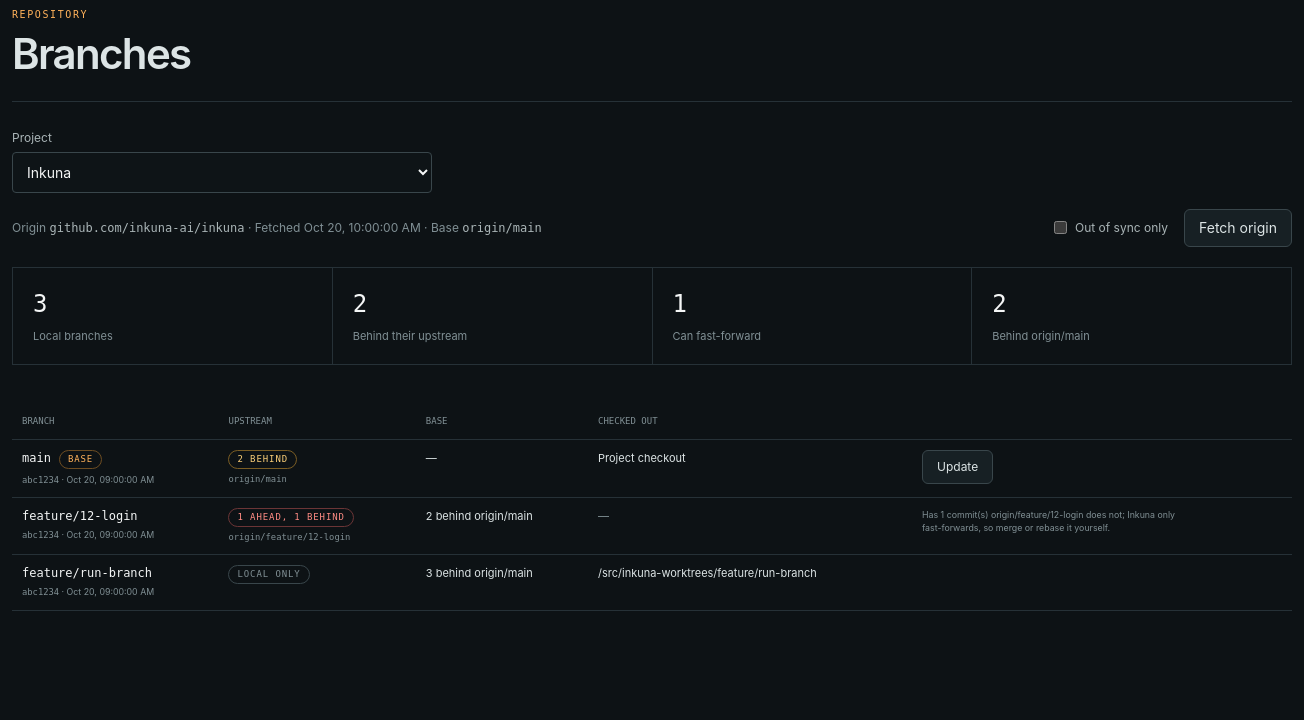
Scenario: BranchesView › fast-forwards a branch and says what moved
Click the button with aria-label "Update main": (958, 466) [922, 450, 993, 484]
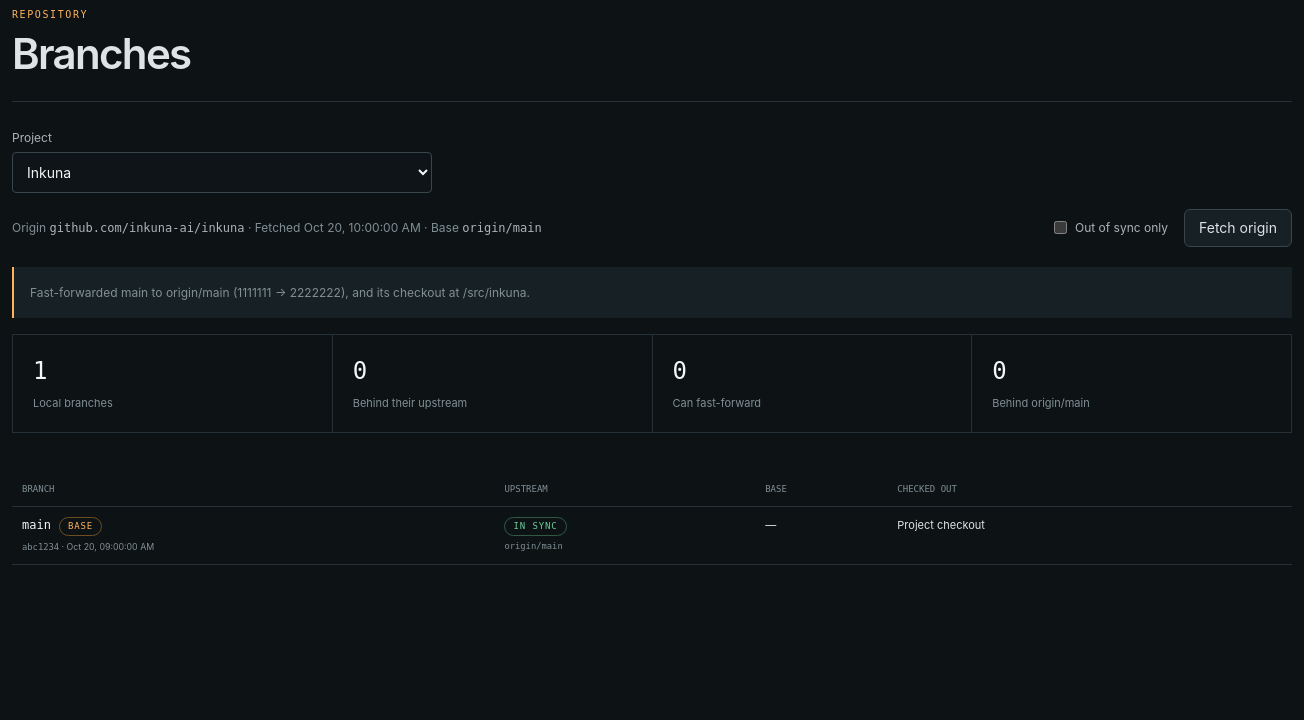
Check: the text "Fast-forwarded main to origin/main (1111111 → 2222222), and its checkout at /src/inkuna." is shown, box [30, 284, 530, 300]
